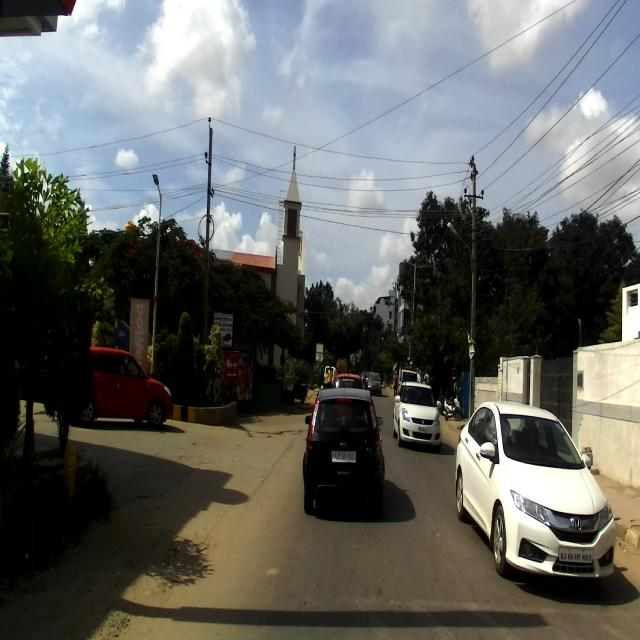car: (454, 399, 616, 588), (302, 385, 386, 516), (71, 341, 173, 429), (392, 380, 441, 456)
